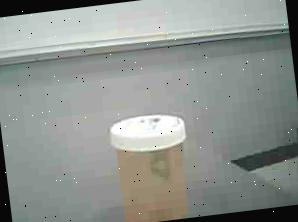Bottle B: (104, 108, 201, 222)
